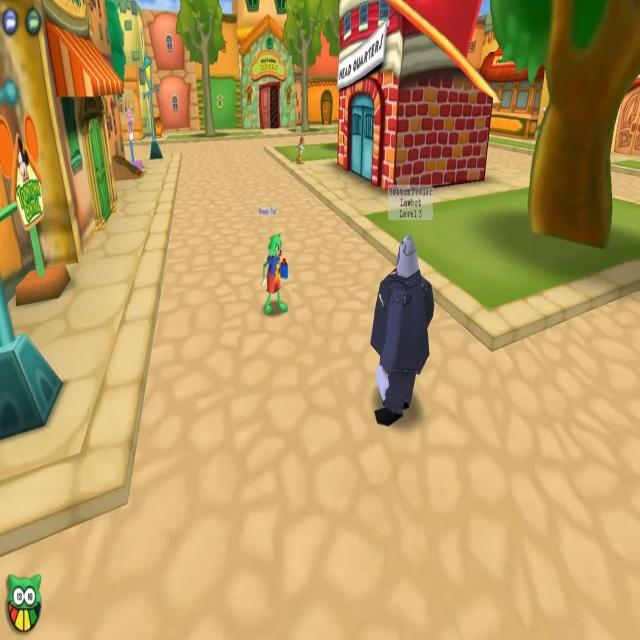bottomfeeder: (366, 183, 438, 435)
